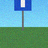sign: (14, 0, 31, 37)
